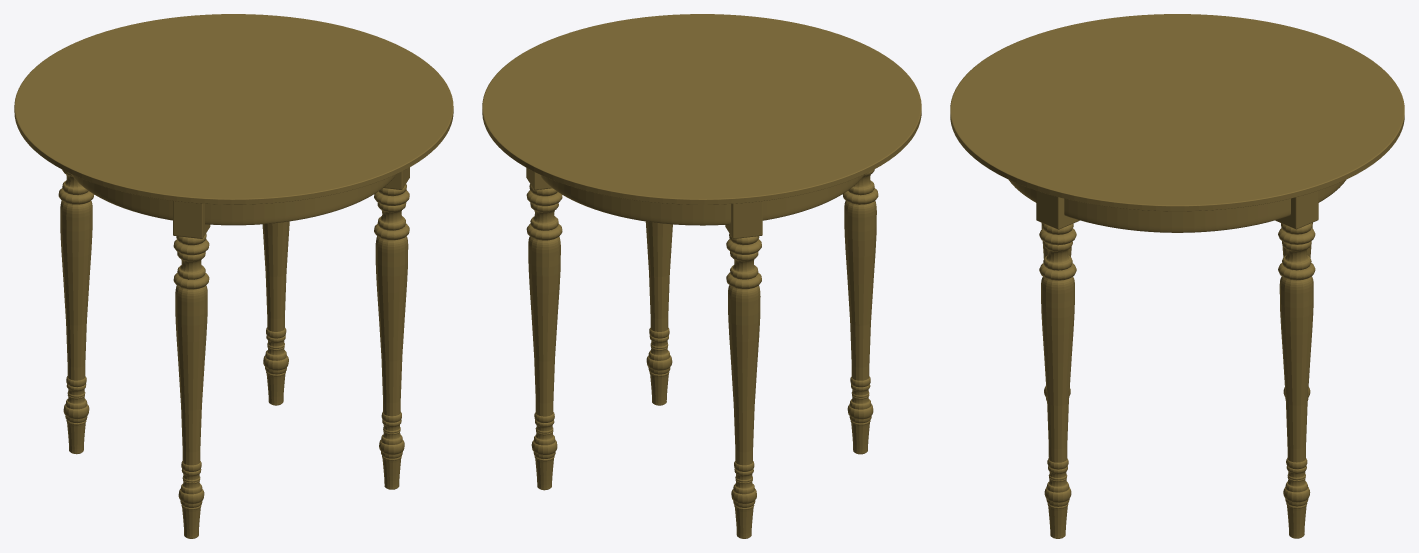
Rendered from Mesa3.FBX.
The picture shows the model from 3 angles, left to right: view 1: azimuth 30°, elevation 25°; view 2: azimuth 150°, elevation 25°; view 3: azimuth 270°, elevation 25°; orthographic projection. The views are drawn at different scales.
Parts seen in each view (by area): view 1: Group02, Line008, Line007, Line009, Cylinder00, Line006, Cylinder01, Box004; view 2: Group02, Line009, Line006, Line008, Cylinder00, Line007, Cylinder01, Box002; view 3: Group02, Line007, Line006, Cylinder00, Cylinder01, Box001, Box003.
Part boxes in pixels (box(x1,y1,x2,y2)): Group02: box(16, 14, 451, 198); Line008: box(173, 233, 209, 538); Line007: box(374, 184, 409, 489); Line009: box(58, 170, 94, 454); Cylinder00: box(71, 174, 394, 225); Line006: box(262, 221, 289, 405); Cylinder01: box(14, 14, 453, 204); Box004: box(173, 201, 210, 238); Group02: box(484, 14, 919, 198); Line009: box(726, 233, 761, 538); Line006: box(526, 184, 562, 490); Line008: box(842, 169, 878, 454); Cylinder00: box(541, 174, 864, 225); Line007: box(645, 221, 672, 405); Cylinder01: box(482, 14, 921, 204); Box002: box(725, 201, 762, 238); Group02: box(952, 14, 1402, 204); Line007: box(1039, 223, 1076, 538); Line006: box(1278, 223, 1315, 538); Cylinder00: box(1009, 180, 1345, 232); Cylinder01: box(950, 14, 1404, 211); Box001: box(1036, 190, 1079, 229); Box003: box(1275, 190, 1318, 229).
Bounding box in the file's own units: 315 × 287 × 315.
